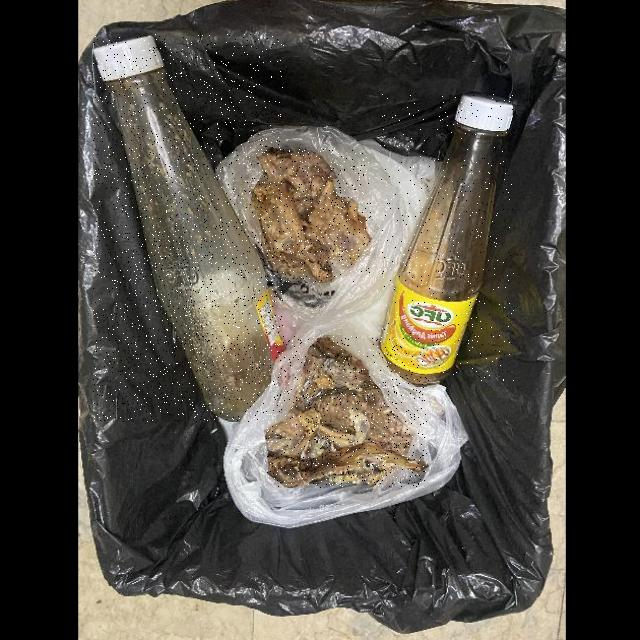biowaste: (266, 336, 427, 487), (253, 148, 371, 283)
glass: (94, 34, 284, 421), (381, 93, 514, 380)
